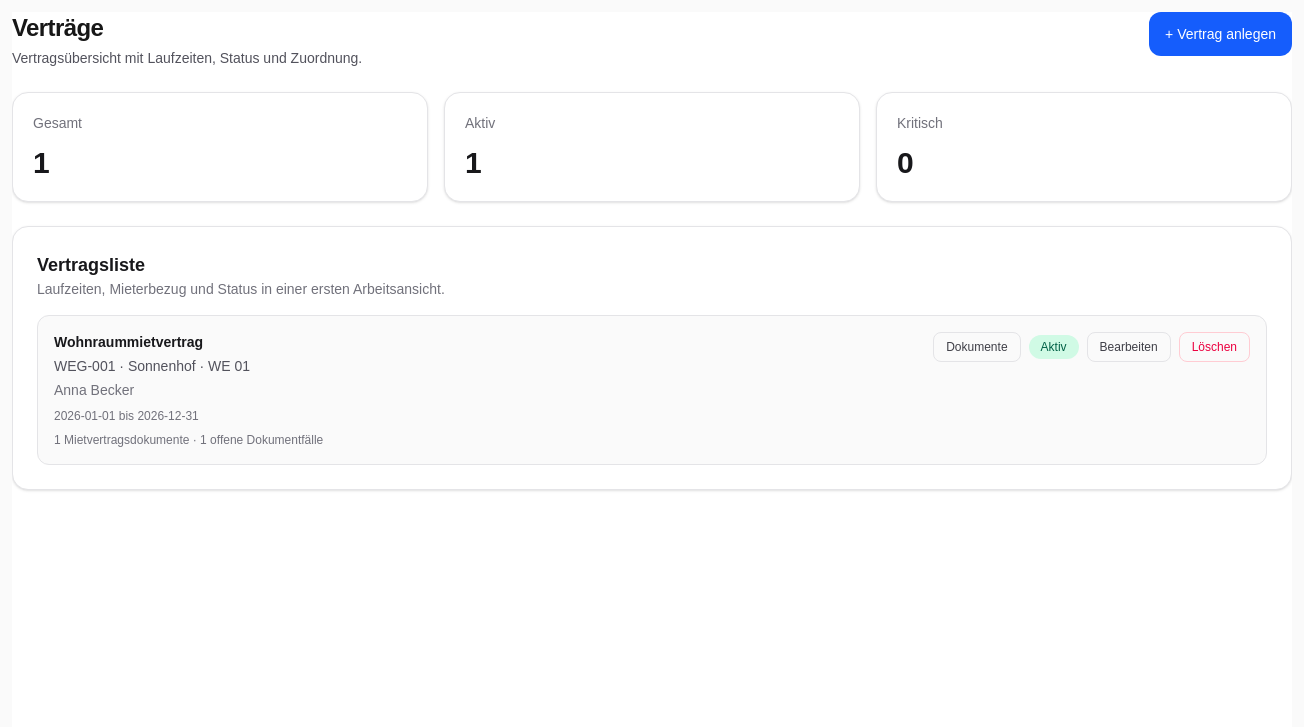
Test: ContractsModule › shows the tenant-linked unit in the form after selecting an object and tenant
Click the button "+ Vertrag anlegen" at (1221, 34), box x1=1149 y1=12 x2=1292 y2=56
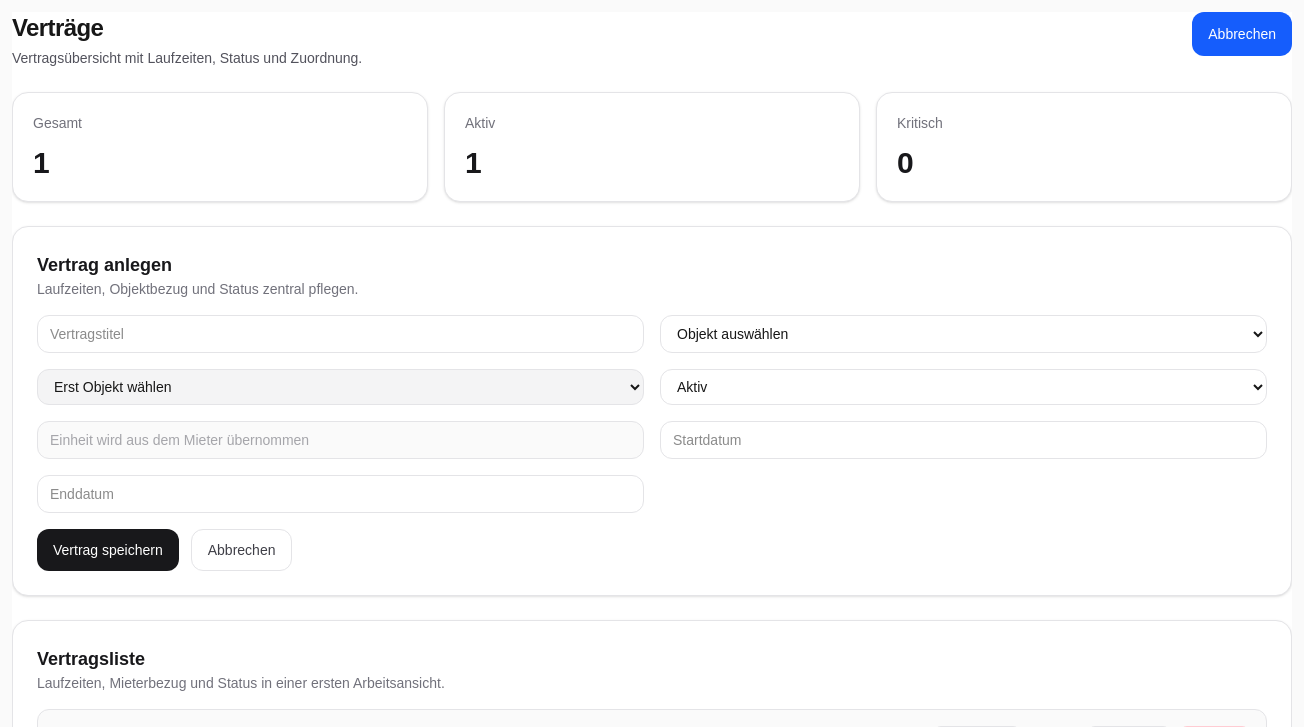
Select "WEG-001 · Sonnenhof" in the 1st dropdown showing "Objekt auswählen" at (964, 334), box x1=660 y1=315 x2=1267 y2=353
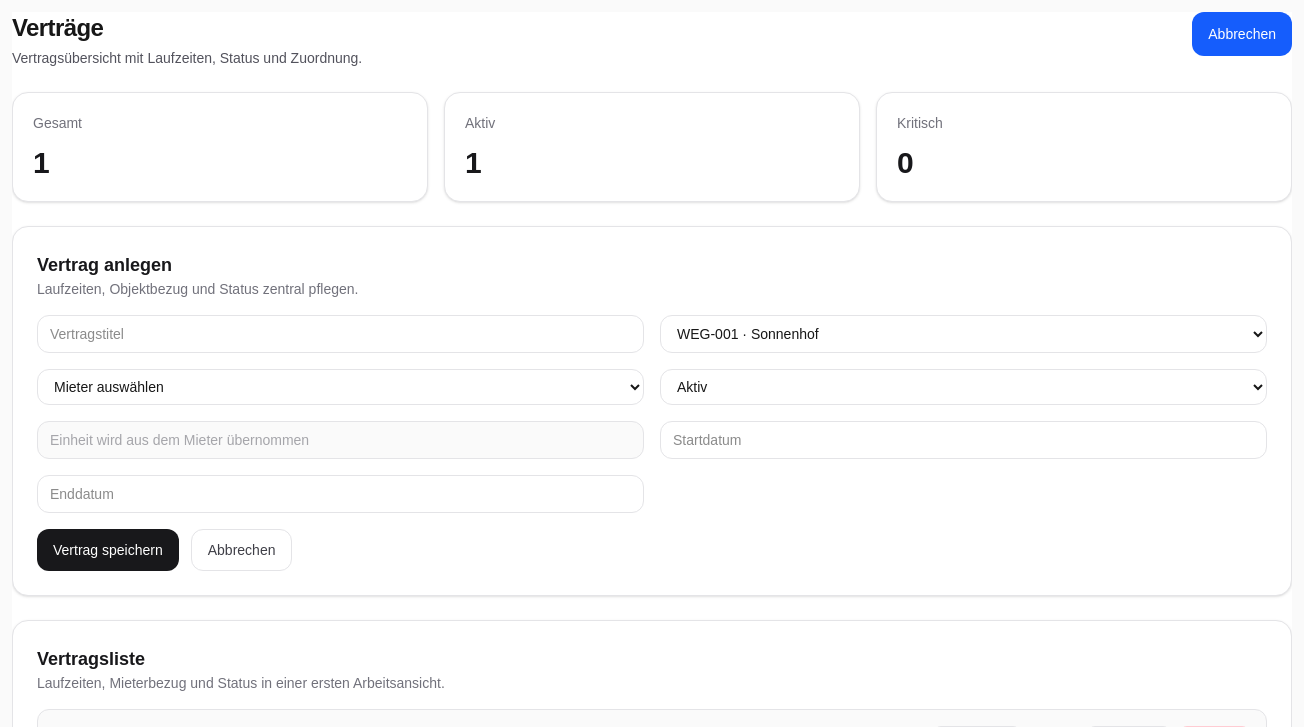
Select "Anna Becker · WE 01" in the 2nd dropdown showing "Mieter auswählen" at (340, 387), box x1=37 y1=369 x2=644 y2=405
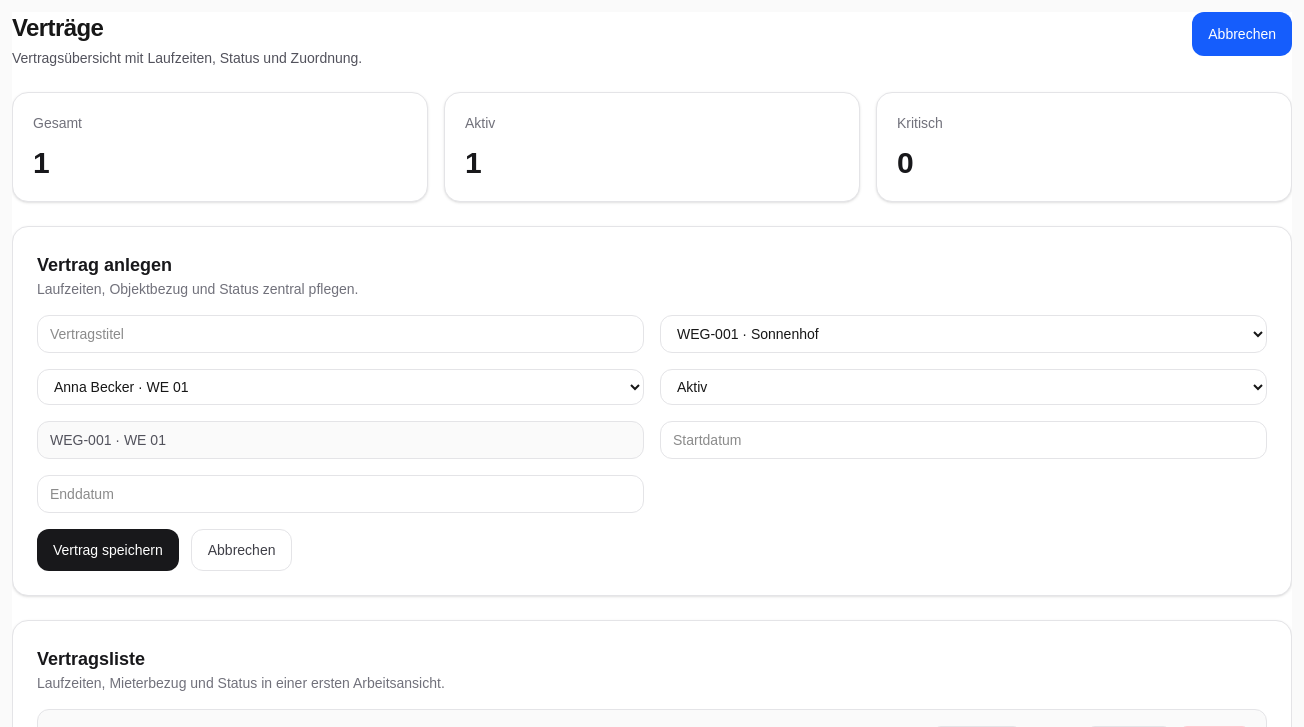
Now the field showing "WEG-001 · WE 01" is shown, box x1=37 y1=421 x2=644 y2=459
